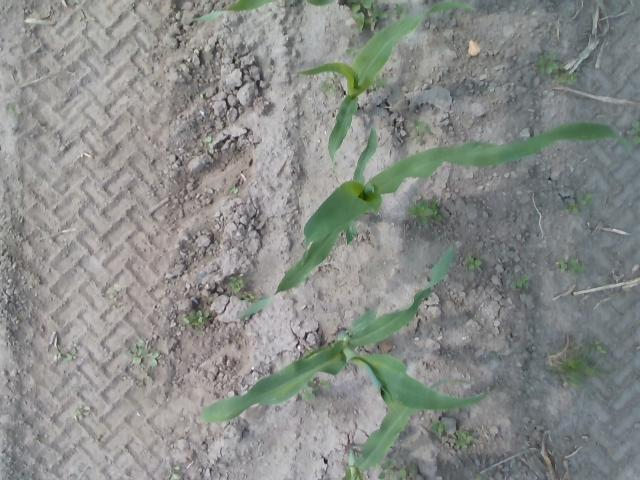Maize: (235, 123, 633, 321), (198, 246, 488, 424), (300, 3, 477, 168), (344, 377, 469, 480), (196, 0, 357, 21)
Weeds: (350, 3, 388, 30), (408, 200, 440, 224), (567, 356, 594, 384), (538, 54, 558, 76), (130, 340, 146, 365), (131, 366, 154, 382), (455, 429, 473, 449), (184, 311, 213, 322), (510, 274, 530, 289), (379, 461, 395, 479), (231, 274, 247, 292), (144, 348, 160, 366), (398, 466, 416, 480), (414, 119, 431, 132), (72, 406, 90, 418), (320, 82, 339, 93), (559, 71, 576, 82), (468, 256, 481, 270), (242, 291, 258, 302), (303, 387, 316, 400), (580, 190, 592, 204), (6, 104, 21, 115), (568, 200, 580, 213), (432, 420, 446, 431), (396, 5, 408, 17), (595, 341, 606, 354), (376, 78, 390, 88), (572, 260, 584, 271), (109, 286, 120, 298), (345, 44, 356, 54), (320, 380, 331, 390), (412, 133, 424, 142), (558, 261, 568, 271), (70, 344, 82, 352), (204, 135, 214, 144), (66, 352, 76, 360), (232, 186, 238, 193), (564, 255, 570, 260)
